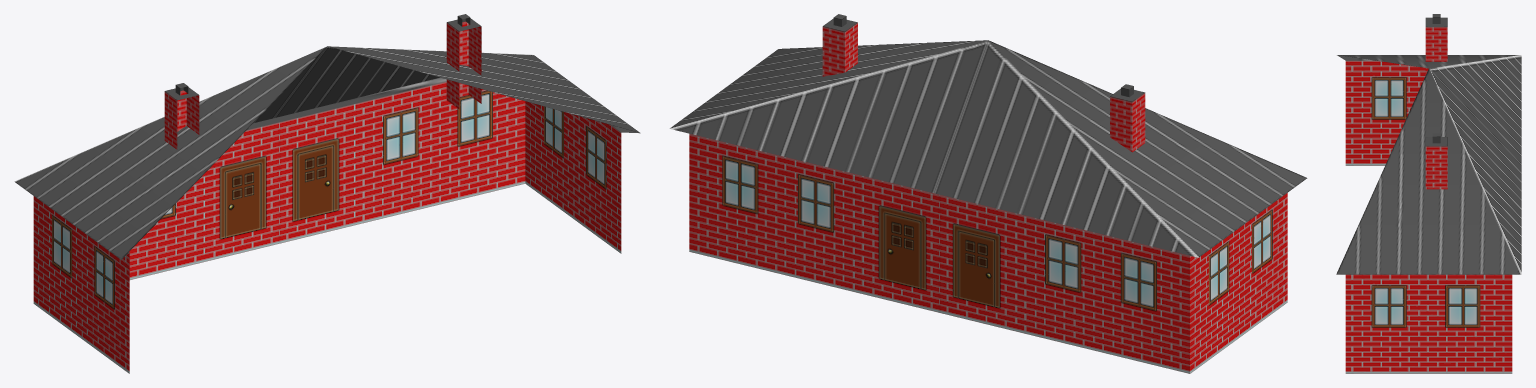
Rendered from House_01.FBX.
The picture shows the model from 3 angles, left to right: view 1: azimuth 30°, elevation 25°; view 2: azimuth 150°, elevation 25°; view 3: azimuth 270°, elevation 25°; orthographic projection. The views are drawn at different scales.
Visible parts, largest first — view 1: House_01, Chimneys_01; view 2: House_01, Chimneys_01; view 3: House_01, Chimneys_01.
Part boxes in pixels (x1,y1,x2,y2): House_01: (14,46,640,373); Chimneys_01: (164,14,481,149); House_01: (669,40,1307,373); Chimneys_01: (822,14,1145,152); House_01: (1336,55,1521,373); Chimneys_01: (1425,14,1447,189).
Size of the model in its own units: 125 by 53.46 by 44.61.
